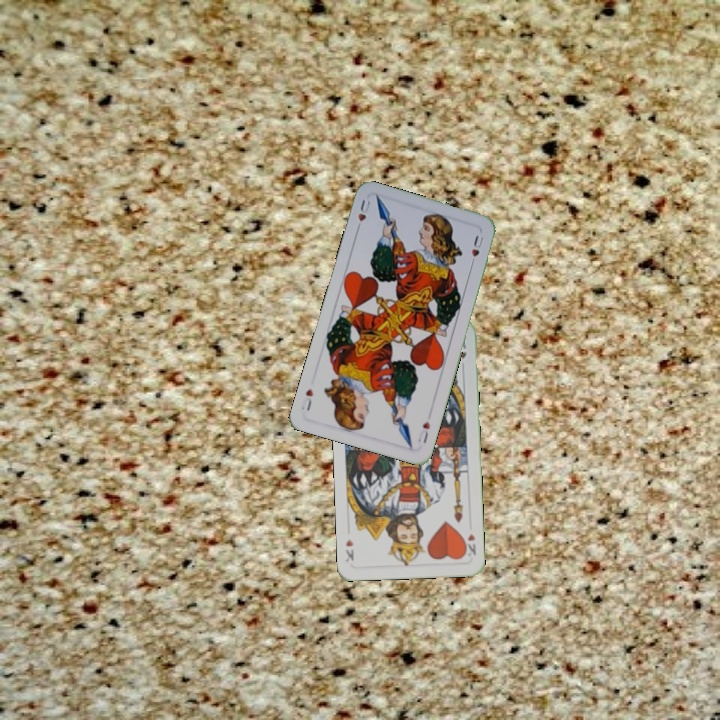HK: (460, 529, 478, 558)
HU: (352, 196, 373, 234), (414, 417, 433, 446)
